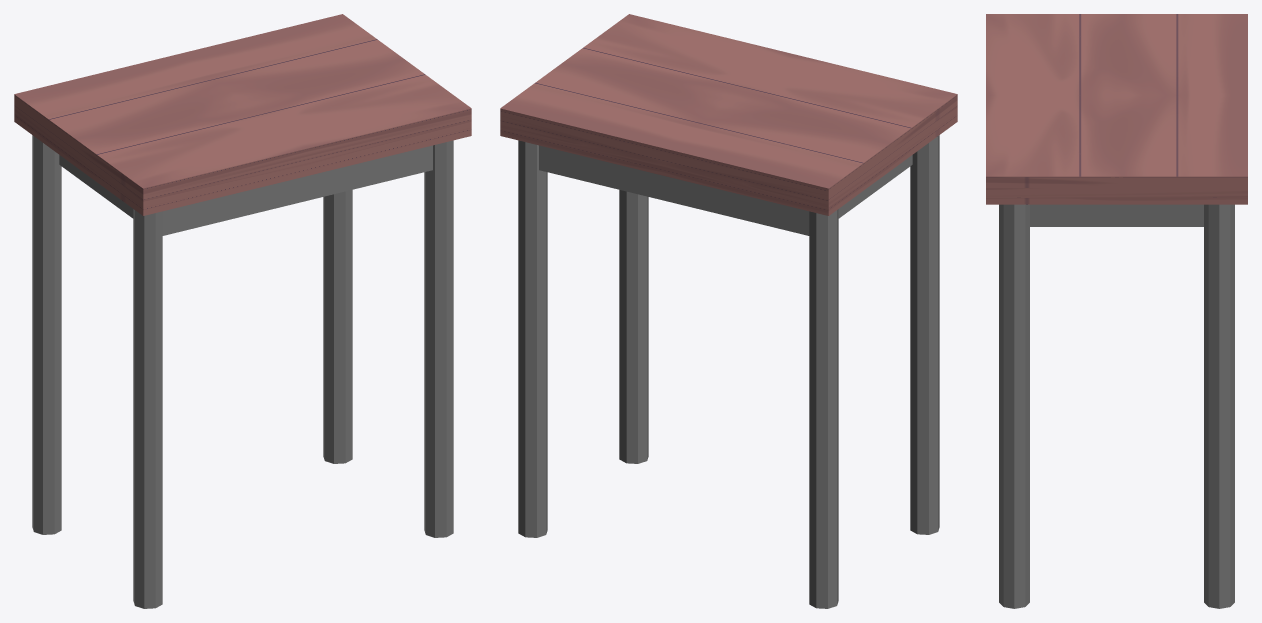
Rendered from kyoutaku.fbx.
3 renders of one model, left to right at view 1: azimuth 30°, elevation 25°; view 2: azimuth 150°, elevation 25°; view 3: azimuth 270°, elevation 25°, orthographic.
Visible parts, largest first — view 1: kyoutaku; view 2: kyoutaku; view 3: kyoutaku.
Part boxes in pixels (x1,y1,x2,y2): kyoutaku: (14,14,471,608); kyoutaku: (500,14,957,608); kyoutaku: (986,14,1247,608).
Bounding box in the file's own units: 2.5 × 3.12 × 1.7.
